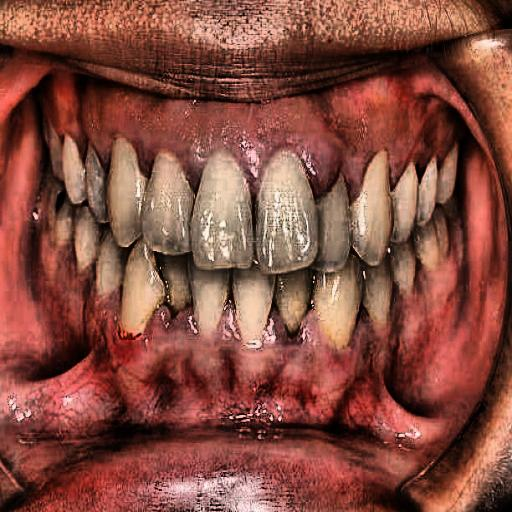Gingivitis: (40, 72, 368, 175), (209, 308, 419, 388), (93, 295, 208, 387)
